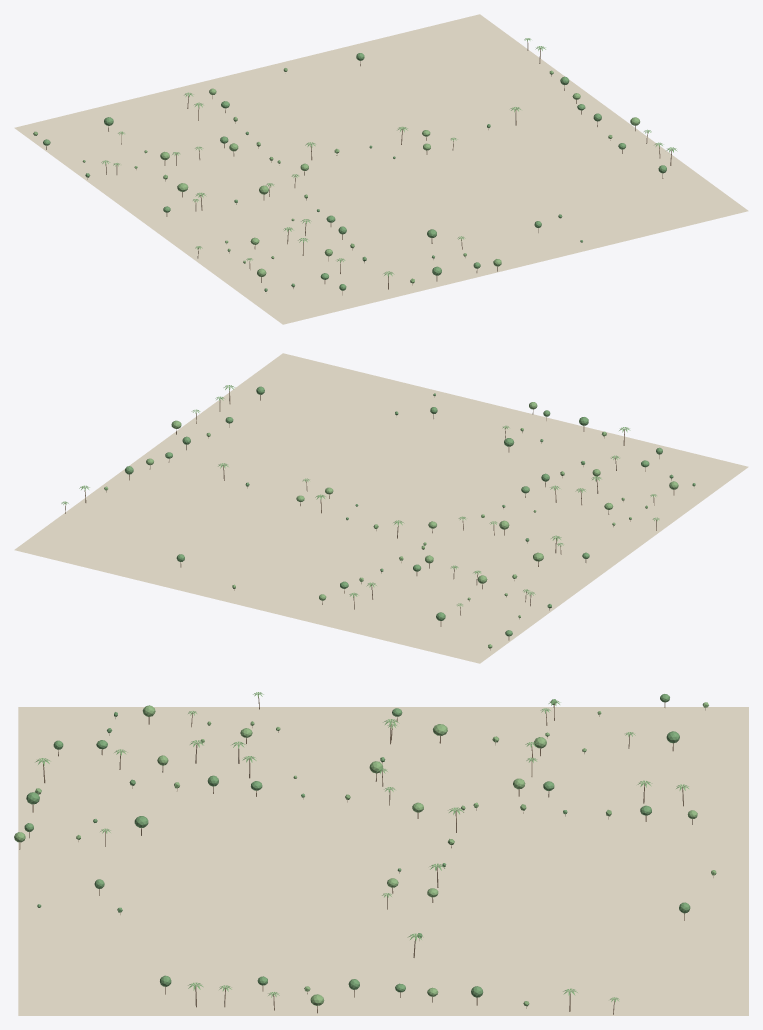
File: nature_4_-2.glb
3 renders of one model, top to bottom at view 1: azimuth 30°, elevation 25°; view 2: azimuth 150°, elevation 25°; view 3: azimuth 270°, elevation 25°, orthographic. The views are drawn at different scales.
Parts seen in each view (by area): view 1: ground, foliage_a, foliage_b, palm_leaf, trunk; view 2: ground, foliage_a, foliage_b, trunk, palm_leaf; view 3: ground, foliage_a, foliage_b, palm_leaf, trunk.
Part boxes in pixels (x1=…): ground: x1=14, y1=14, x2=748, y2=324; foliage_a: x1=43, y1=53, x2=666, y2=291; foliage_b: x1=33, y1=68, x2=640, y2=283; palm_leaf: x1=101, y1=38, x2=677, y2=276; trunk: x1=46, y1=41, x2=672, y2=295; ground: x1=14, y1=353, x2=748, y2=663; foliage_a: x1=125, y1=386, x2=695, y2=636; foliage_b: x1=104, y1=402, x2=678, y2=648; trunk: x1=65, y1=389, x2=674, y2=650; palm_leaf: x1=61, y1=385, x2=659, y2=606; ground: x1=18, y1=707, x2=748, y2=1015; foliage_a: x1=24, y1=694, x2=690, y2=997; foliage_b: x1=14, y1=702, x2=716, y2=1006; palm_leaf: x1=35, y1=692, x2=688, y2=1002; trunk: x1=19, y1=696, x2=713, y2=1014.
Bounding box in the file's own units: 252 × 8.9 × 251.
